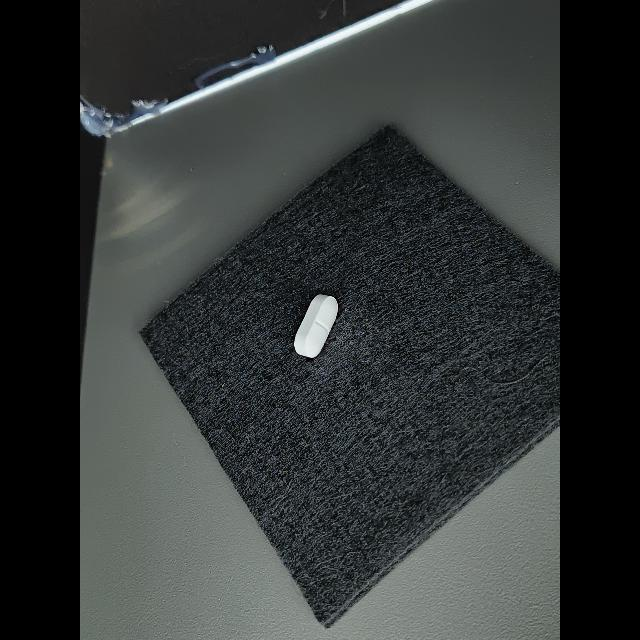Intact Pill: (295, 295, 338, 357)
